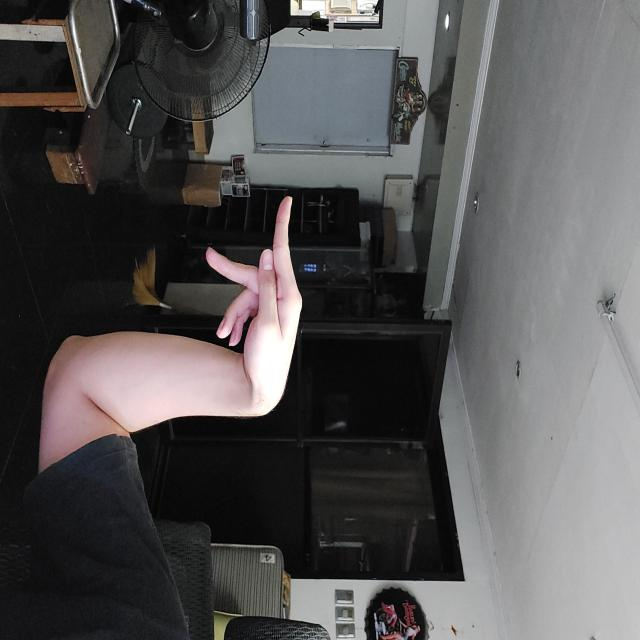P: (196, 337, 417, 435)
